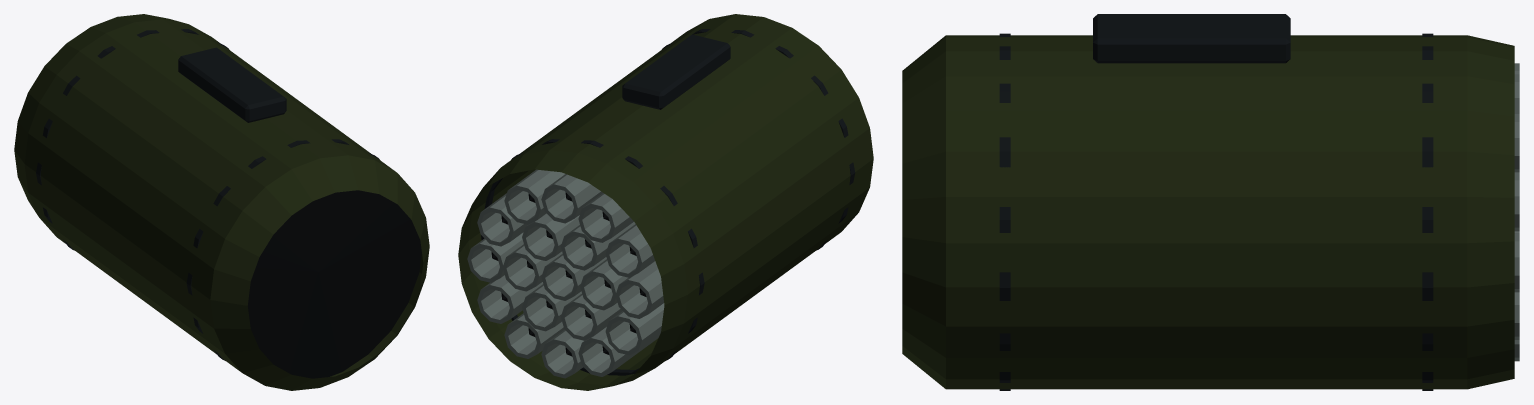
File: Rocket70Nineteen.obj
3 renders of one model, left to right at view 1: azimuth 30°, elevation 25°; view 2: azimuth 150°, elevation 25°; view 3: azimuth 270°, elevation 25°, orthographic. The views are drawn at different scales.
Visible parts, largest first — view 1: Pod_aerodynamic_outer_shell, Rear_bulkhead, Mount_lug, Identification_band, Identification_band.001; view 2: Pod_aerodynamic_outer_shell, Mount_lug, Tube_11, Tube_14, Tube_15, Tube_10, Tube_12, Tube_13, Tube_19, Tube_03, Tube_06, Tube_16 (+11 smaller); view 3: Pod_aerodynamic_outer_shell, Mount_lug, Identification_band, Identification_band.001.
Part boxes in pixels (bbox=[...]): Pod_aerodynamic_outer_shell: bbox=[14, 14, 429, 390]; Rear_bulkhead: bbox=[247, 190, 421, 378]; Mount_lug: bbox=[178, 47, 286, 122]; Identification_band: bbox=[186, 139, 379, 360]; Identification_band.001: bbox=[36, 29, 229, 250]; Pod_aerodynamic_outer_shell: bbox=[458, 14, 873, 390]; Mount_lug: bbox=[622, 34, 730, 109]; Tube_11: bbox=[541, 174, 602, 223]; Tube_14: bbox=[616, 261, 663, 318]; Tube_15: bbox=[605, 303, 664, 355]; Tube_10: bbox=[504, 169, 564, 224]; Tube_12: bbox=[578, 193, 633, 242]; Tube_13: bbox=[605, 224, 654, 277]; Tube_19: bbox=[477, 275, 543, 323]; Tube_03: bbox=[522, 213, 579, 260]; Tube_06: bbox=[561, 293, 622, 340]; Tube_16: bbox=[578, 327, 659, 376]; Pod_aerodynamic_outer_shell: bbox=[902, 35, 1514, 389]; Mount_lug: bbox=[1093, 14, 1290, 63]; Identification_band: bbox=[999, 33, 1010, 390]; Identification_band.001: bbox=[1422, 33, 1433, 390].
Bounding box in the file's own units: 0.9054 × 0.9727 × 1.56.
